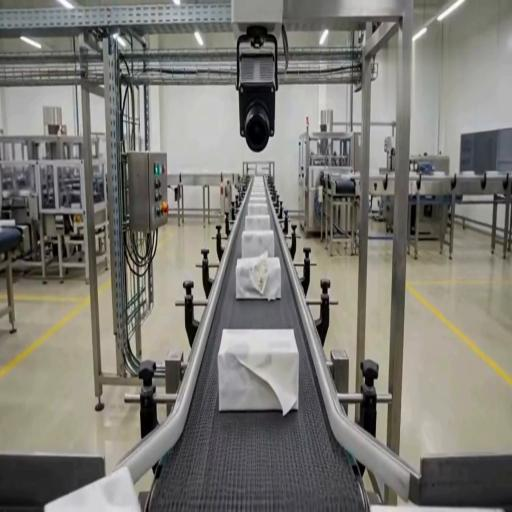defective: (217, 327, 299, 414), (44, 465, 141, 511), (236, 256, 282, 301)
good: (242, 228, 274, 257), (244, 214, 270, 233), (246, 200, 269, 216), (248, 183, 268, 197)
